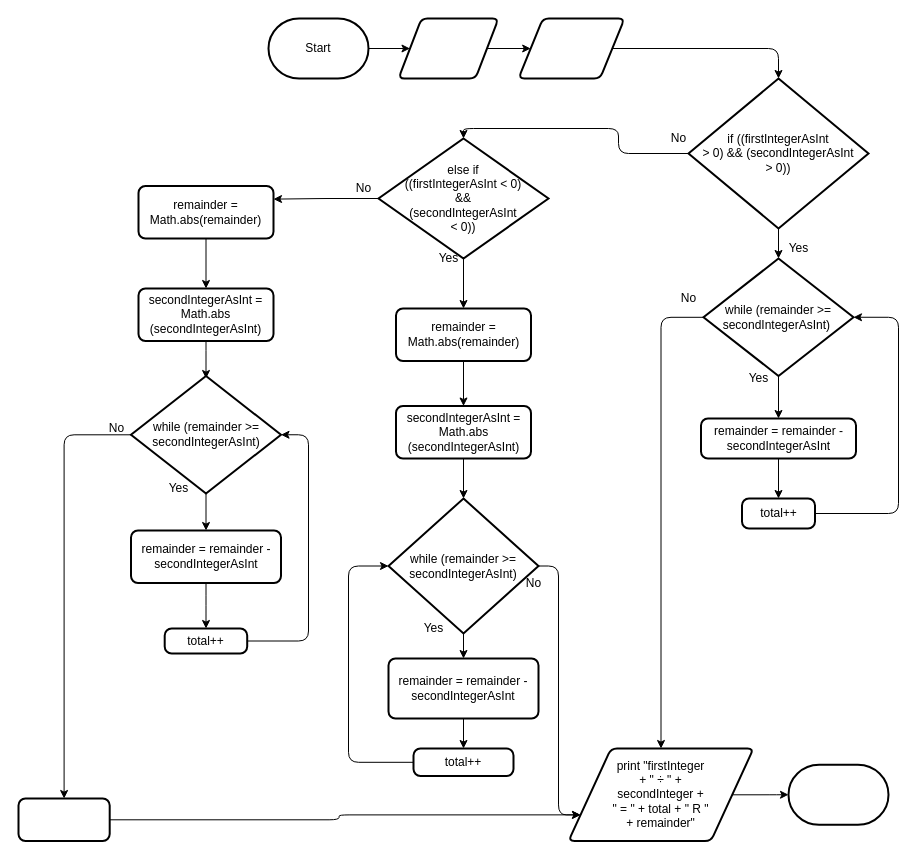
Some shapes in this 924 by 859 pixel diagram are drawn without their labels. Here are the shapes that lost their labels. From the top down, the centre of each, then its label:
At point 448,48: "get firstInteger".
At point 571,48: "get secondInteger".
At point 838,794: "Stop".
At point 63,819: "total = -Math.abs(total)".
